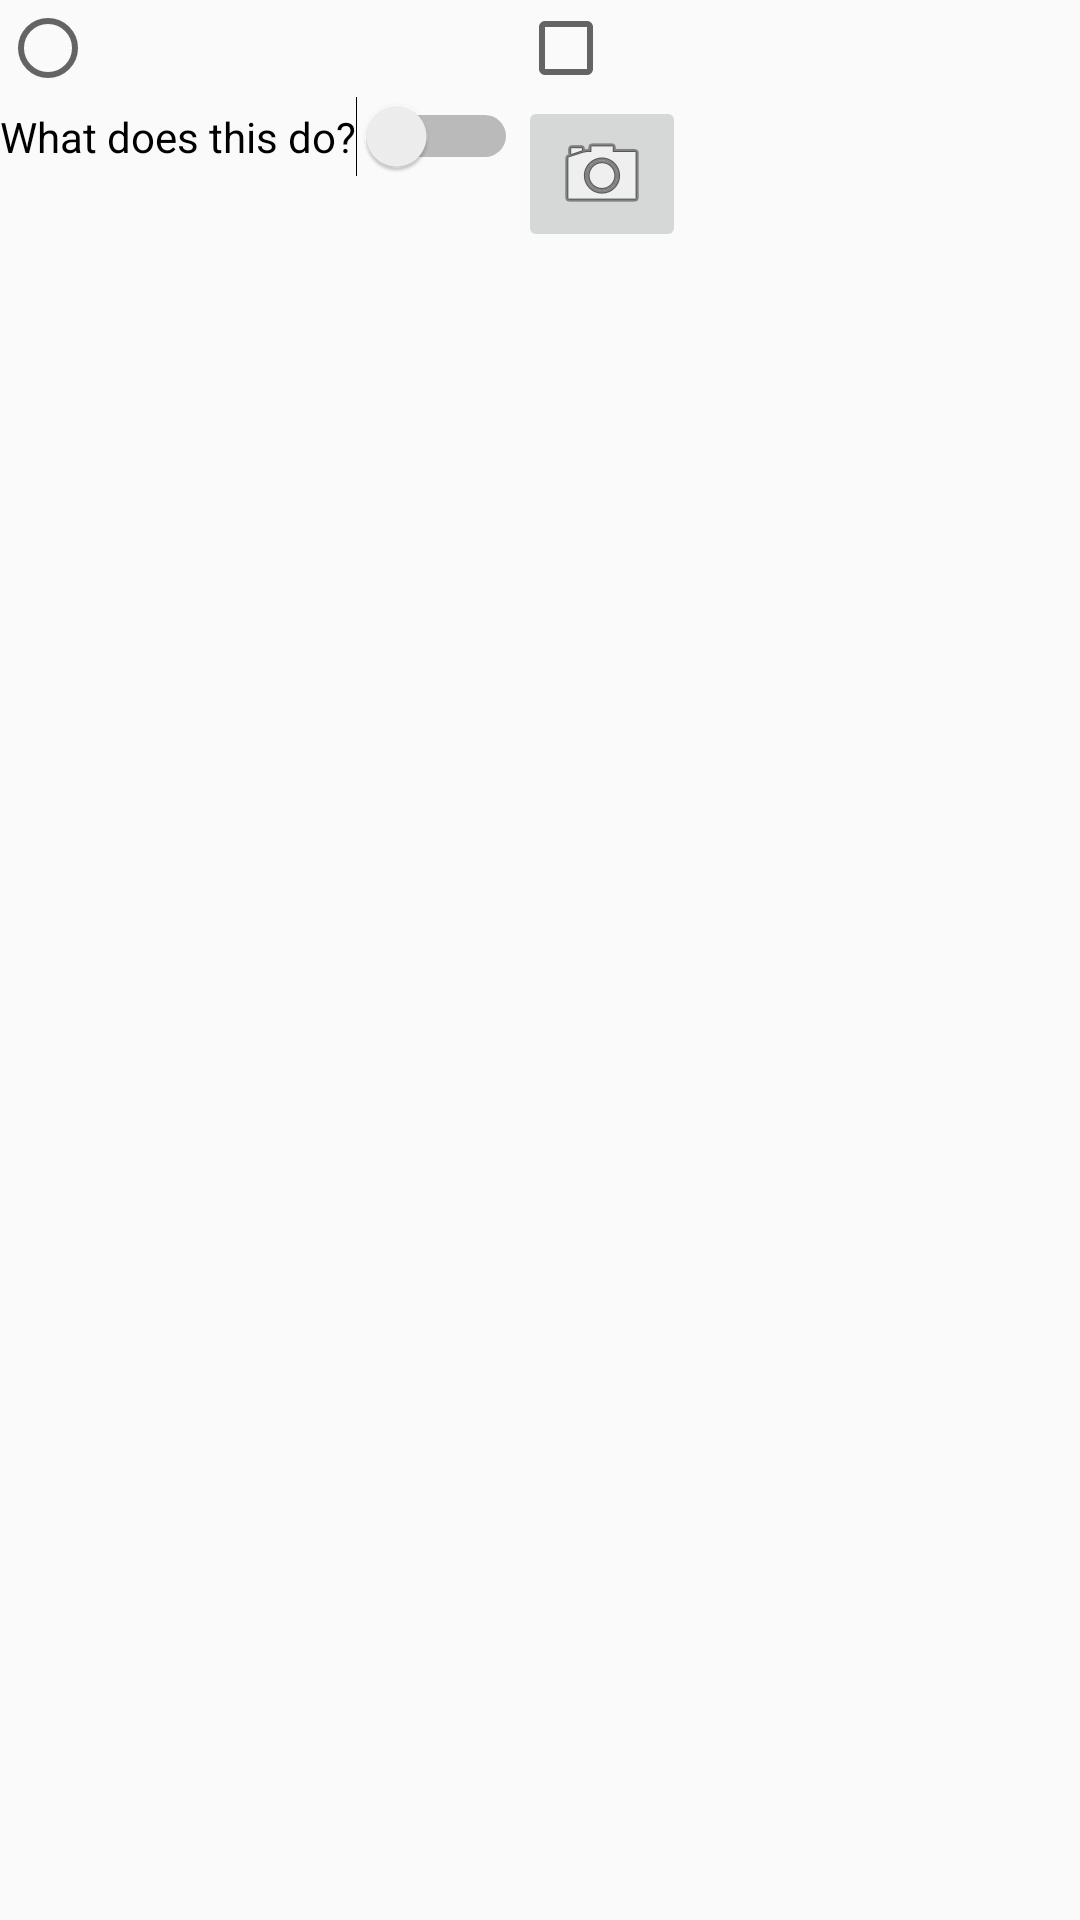

Locate icon controls on the screen. Image size 1080px×1920px, boxes as (x1, y1, x2, y2).
camera: (530, 114, 674, 234)
